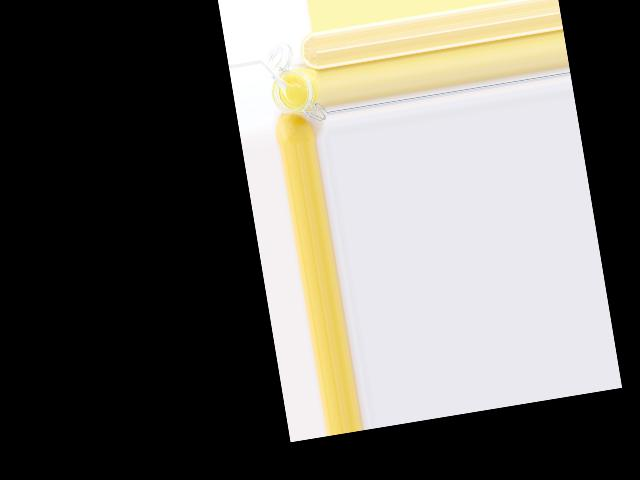lemon: (273, 107, 315, 146)
